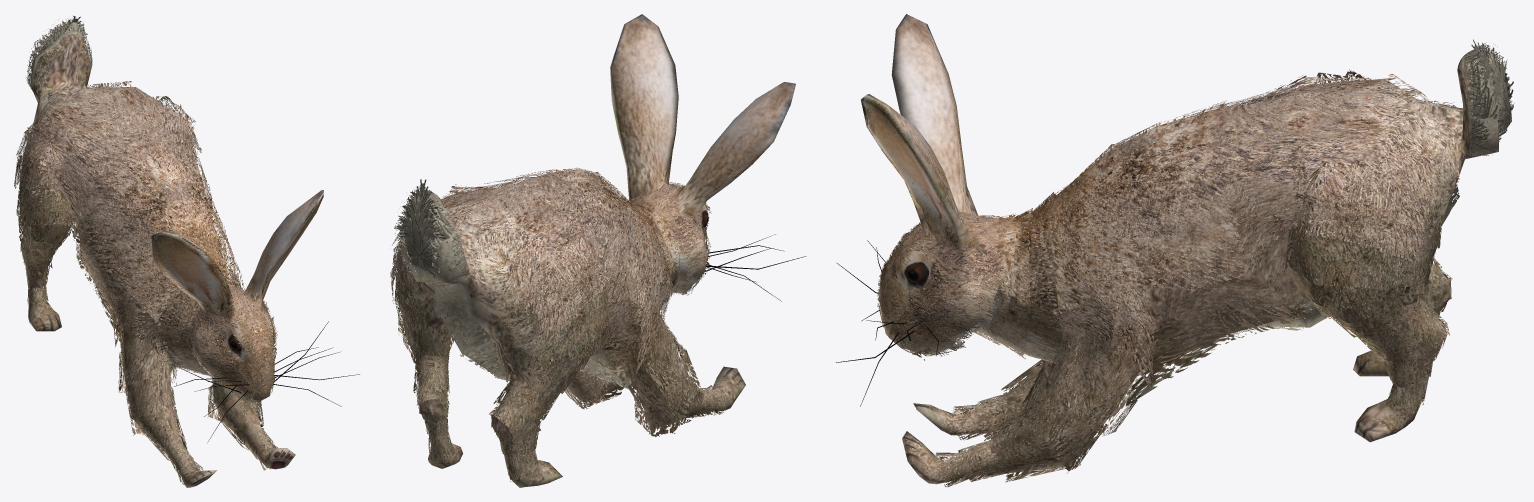
Rendered from rabbit20023.obj.
3 renders of one model, left to right at view 1: azimuth 30°, elevation 25°; view 2: azimuth 150°, elevation 25°; view 3: azimuth 270°, elevation 25°, orthographic. The views are drawn at different scales.
Parts seen in each view (by area): view 1: Rabbit, Fur; view 2: Rabbit, Fur; view 3: Rabbit, Fur.
Part boxes in pixels (x1,y1,x2,y2): Rabbit: [19, 32, 359, 487]; Fur: [14, 15, 277, 484]; Rabbit: [397, 14, 806, 487]; Fur: [390, 167, 729, 481]; Rabbit: [836, 14, 1510, 484]; Fur: [877, 39, 1514, 486].
Size of the model in its own units: 8.26 by 13.43 by 18.52.
